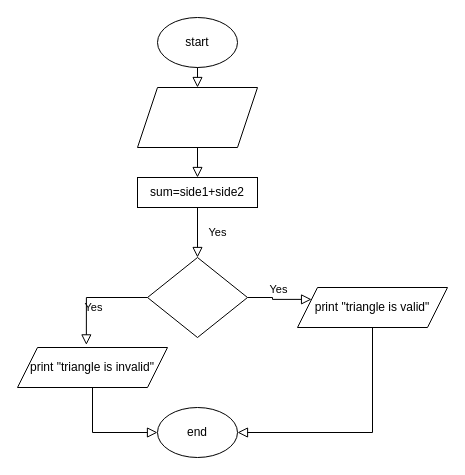
Image size: 465x475. Some labels were removed from this diagram. The centre of each missing label's shape, as x and y in pixels:
"input side1, side2, largeside" goes at (197,117).
"sum>largeside" goes at (197,297).
